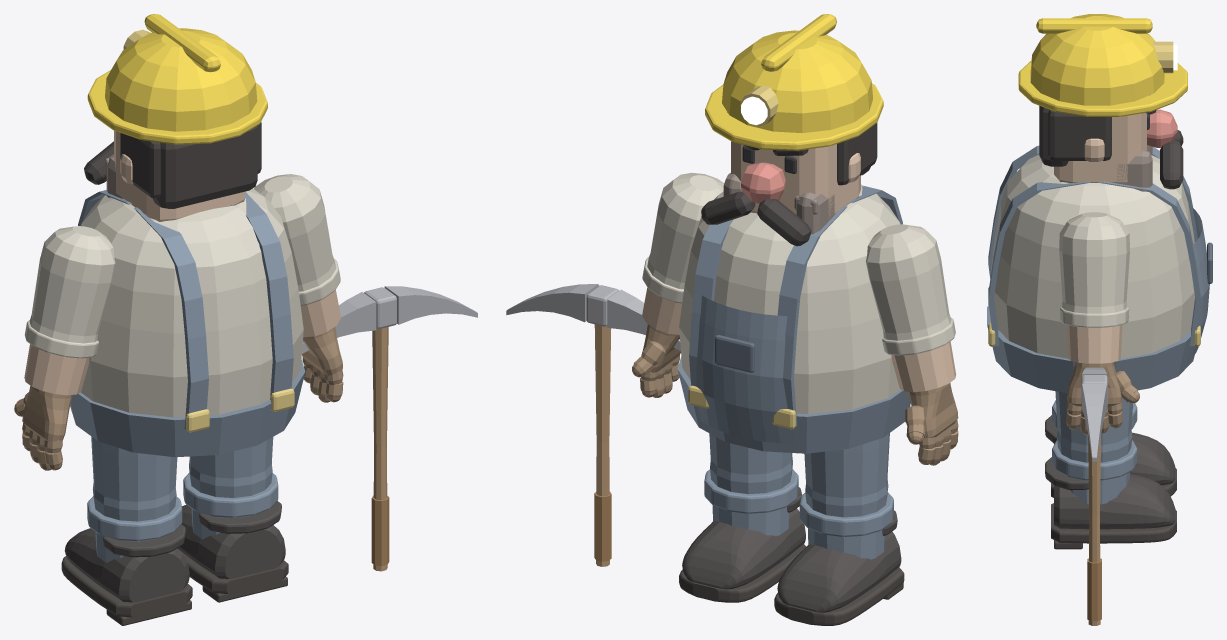
File: npc_miner.glb
3 renders of one model, left to right at view 1: azimuth 30°, elevation 25°; view 2: azimuth 150°, elevation 25°; view 3: azimuth 270°, elevation 25°, orthographic. The views are drawn at different scales.
Parts seen in each view (by area): view 1: Belly, HelmetDome, Waist, UpperArm_L, HairBack, Boot_L, UpperArm_R, Strap_B-1, Boot_R, Strap_B1, Thigh_L, HelmetBrim (+24 smaller); view 2: Belly, HelmetDome, Bib, UpperArm_L, Boot_L, Waist, Boot_R, UpperArm_R, Thigh_L, Face, HelmetBrim, Strap_F-1 (+29 smaller); view 3: Belly, HelmetDome, UpperArm_R, Waist, Boot_R, Face, HelmetBrim, HairSide_1, Forearm_R, Sole_R, Boot_L, Strap_B1 (+22 smaller).
Boxes of the visible parts, box(x1,y1,x2,y2) form: Belly: box(80, 188, 303, 417); HelmetDome: box(105, 28, 257, 131); Waist: box(70, 359, 305, 457); UpperArm_L: box(31, 226, 115, 336); HairBack: box(152, 126, 257, 208); Boot_L: box(64, 528, 189, 602); UpperArm_R: box(254, 174, 333, 285); Strap_B-1: box(134, 207, 208, 429); Boot_R: box(177, 504, 285, 578); Strap_B1: box(245, 191, 293, 399); Thigh_L: box(91, 436, 177, 501); HelmetBrim: box(87, 70, 267, 144); Belly: box(679, 184, 900, 414); HelmetDome: box(722, 30, 872, 133); Bib: box(696, 295, 795, 443); UpperArm_L: box(865, 224, 948, 333); Boot_L: box(777, 531, 901, 612); Waist: box(677, 357, 910, 453); Boot_R: box(682, 508, 805, 589); UpperArm_R: box(649, 172, 724, 282); Thigh_L: box(804, 433, 889, 497); Face: box(731, 141, 860, 217); HelmetBrim: box(705, 83, 883, 150); Strap_F-1: box(777, 206, 847, 426); Belly: box(991, 154, 1194, 358); HelmetDome: box(1030, 14, 1164, 105); UpperArm_R: box(1059, 212, 1129, 306); Waist: box(987, 305, 1194, 392); Boot_R: box(1054, 474, 1175, 529); Face: box(1054, 113, 1146, 182); HelmetBrim: box(1018, 60, 1187, 116); HairSide_1: box(1048, 110, 1111, 160); Forearm_R: box(1066, 325, 1122, 363); Sole_R: box(1051, 503, 1176, 543); Boot_L: box(1054, 432, 1175, 485); Strap_B1: box(988, 181, 1090, 346).
Size of the model in its own units: 1.59 by 1.97 by 0.7764.
